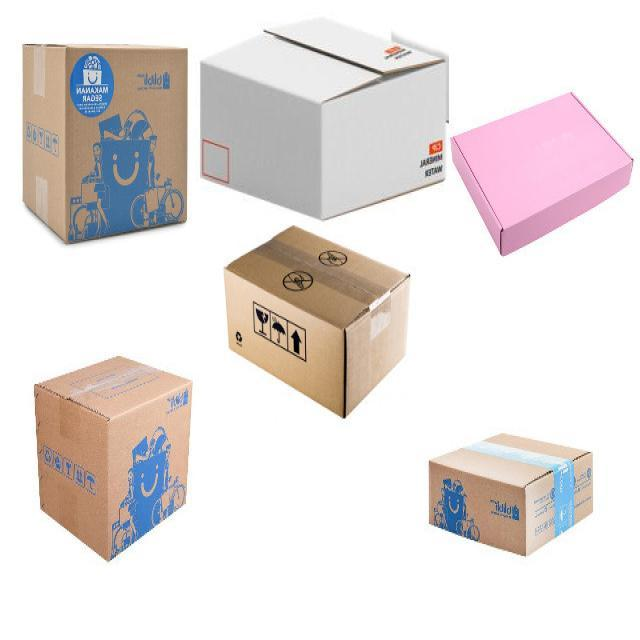Cardboard: (200, 13, 446, 220), (22, 44, 189, 247), (35, 356, 191, 560)
